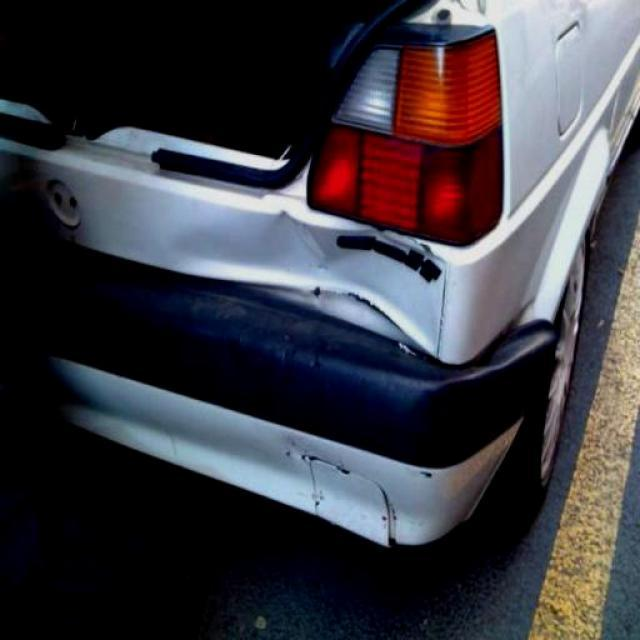car damage: (192, 209, 451, 358), (299, 452, 403, 545)
